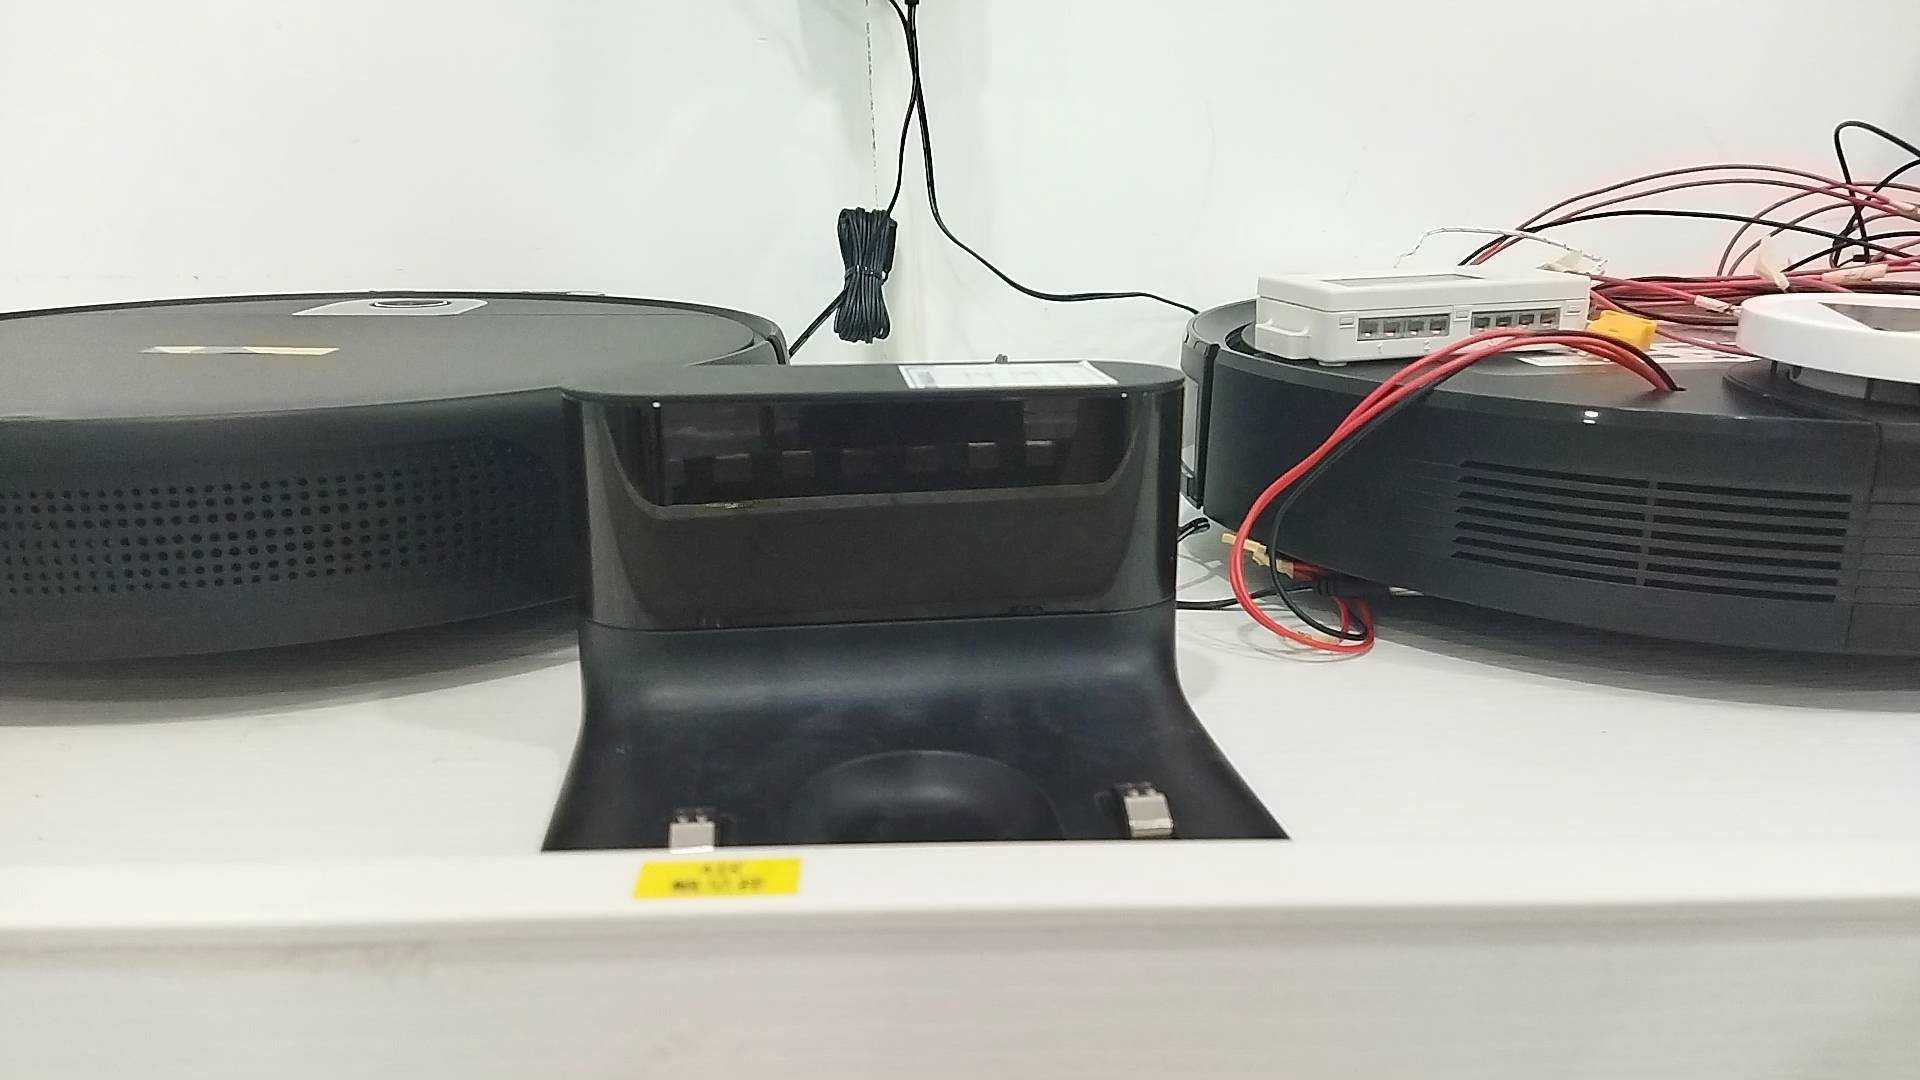recharge seat: (535, 357, 1298, 847)
